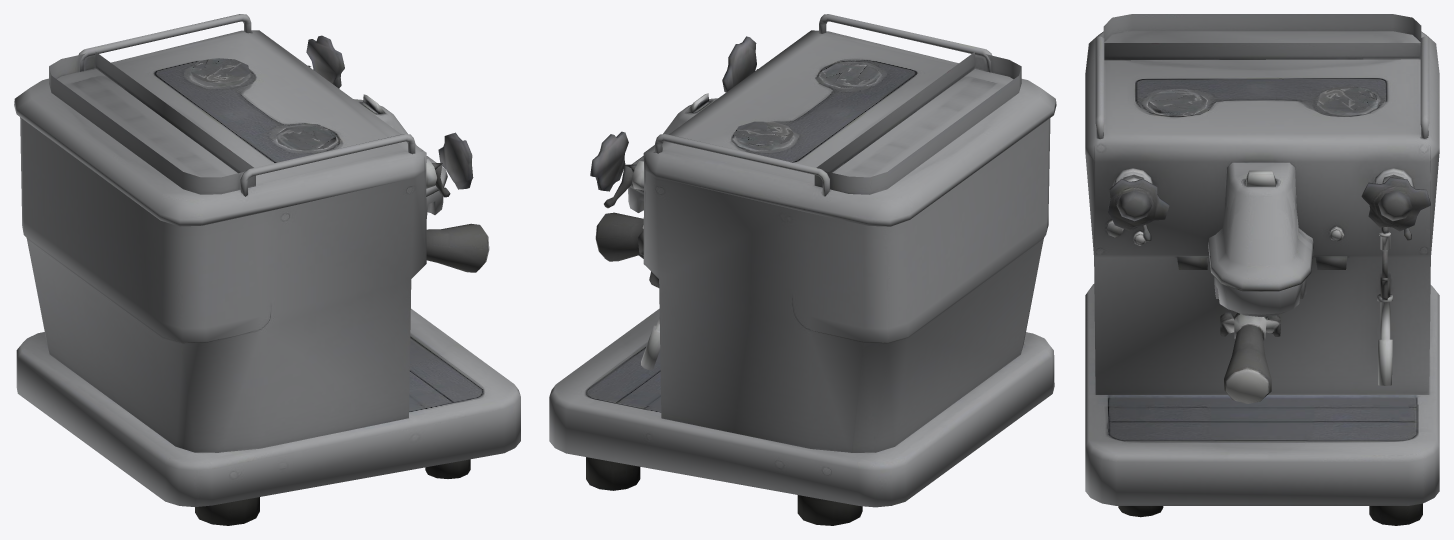
The picture shows the model from 3 angles, left to right: view 1: azimuth 30°, elevation 25°; view 2: azimuth 150°, elevation 25°; view 3: azimuth 270°, elevation 25°; orthographic projection.
Parts seen in each view (by area): view 1: tripo_node_fef49831-3d83-4a74-b4a5-c5792f5249a7; view 2: tripo_node_fef49831-3d83-4a74-b4a5-c5792f5249a7; view 3: tripo_node_fef49831-3d83-4a74-b4a5-c5792f5249a7.
Boxes of the visible parts, x1=… form: tripo_node_fef49831-3d83-4a74-b4a5-c5792f5249a7: x1=14, y1=14, x2=520, y2=525; tripo_node_fef49831-3d83-4a74-b4a5-c5792f5249a7: x1=549, y1=14, x2=1056, y2=525; tripo_node_fef49831-3d83-4a74-b4a5-c5792f5249a7: x1=1085, y1=14, x2=1439, y2=525.
Bounding box in the file's own units: 0.998 × 0.9238 × 0.7988.
Materials: 1 (1 with a texture image).
